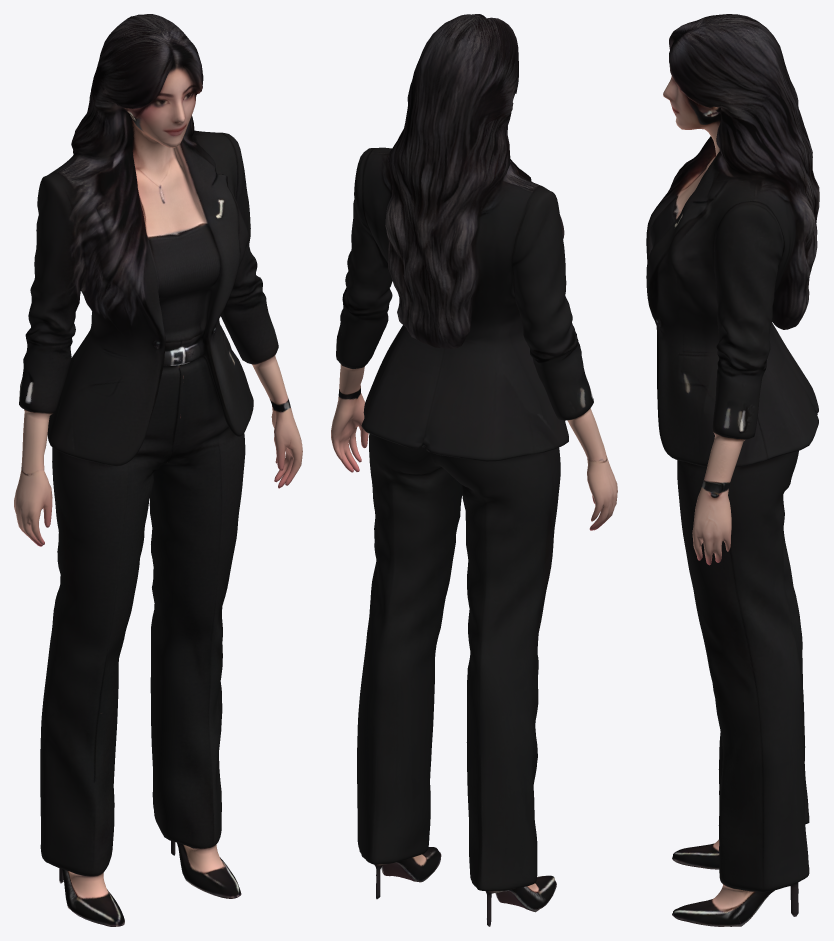
File: jurix_v3_base_basic_pbr.glb
The picture shows the model from 3 angles, left to right: view 1: azimuth 30°, elevation 25°; view 2: azimuth 150°, elevation 25°; view 3: azimuth 270°, elevation 25°; orthographic projection.
Visible parts, largest first — view 1: model; view 2: model; view 3: model.
Boxes of the visible parts, left/top/right/bottom form: model: left=14, top=14, right=302, bottom=926; model: left=331, top=14, right=617, bottom=926; model: left=646, top=14, right=819, bottom=926.
Bounding box in the file's own units: 0.6349 × 1.89 × 0.3411.
1 material, 1 textured.
